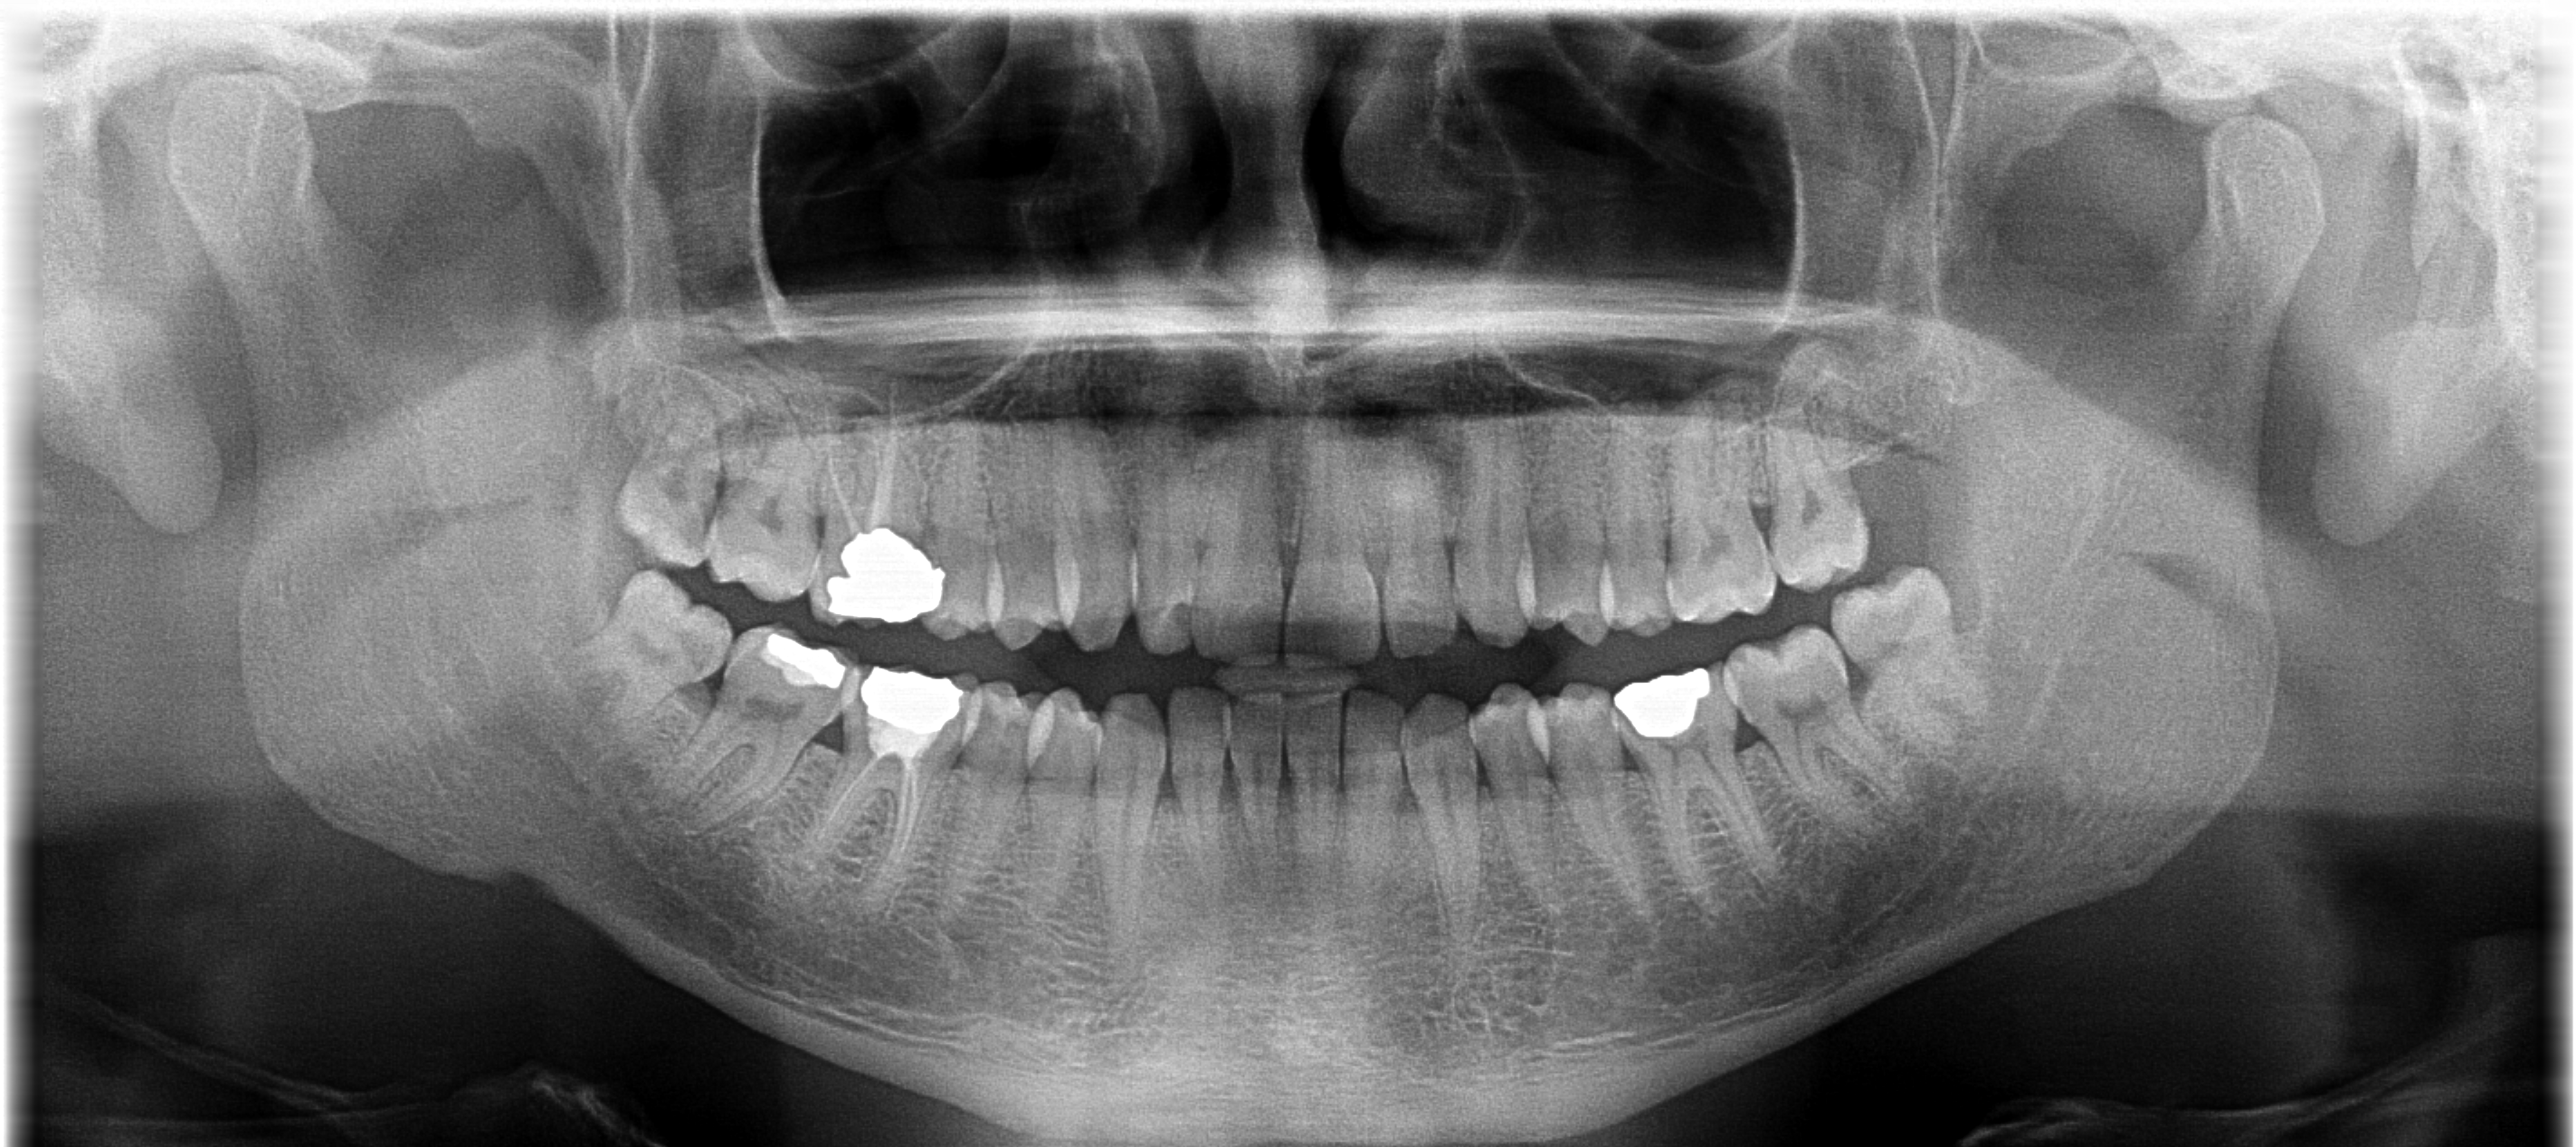apinamiento: (961, 518, 1211, 659), (1472, 549, 1741, 661), (1418, 687, 1617, 795), (945, 684, 1129, 785)
cordal: (1822, 554, 2013, 790), (585, 552, 734, 739)
